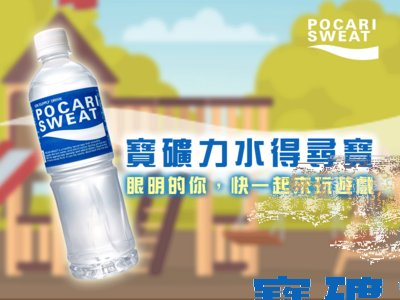POCARI SWEAT: (25, 28, 142, 285)
